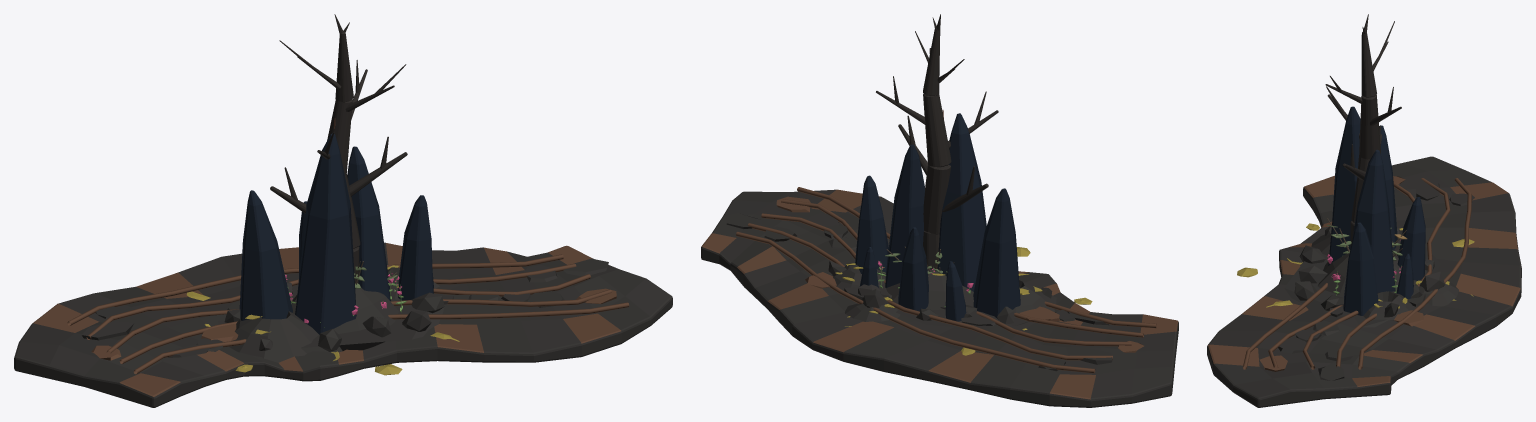
The model's file is volcanic_ecology_kit_v1.glb.
3 renders of one model, left to right at view 1: azimuth 30°, elevation 25°; view 2: azimuth 150°, elevation 25°; view 3: azimuth 270°, elevation 25°, orthographic. The views are drawn at different scales.
Visible parts, largest first — view 1: RopeyLavaShelf, ObsidianShardCluster, FumaroleVentCluster, CharredVolcanicSnag, Lava flow rope 04, Lava flow rope 00, Lava flow rope 03, Lava flow rope 01, Lava flow rope 02; view 2: RopeyLavaShelf, ObsidianShardCluster, CharredVolcanicSnag, FumaroleVentCluster, Lava flow rope 04, Lava flow rope 03, Lava flow rope 02, Lava flow rope 01, Lava flow rope 00; view 3: RopeyLavaShelf, ObsidianShardCluster, CharredVolcanicSnag, FumaroleVentCluster, Lava flow rope 04, Lava flow rope 03, Lava flow rope 00, Lava flow rope 02, Lava flow rope 01, AshScrubCluster.
Part boxes in pixels (box(x1,y1,x2,y2)): RopeyLavaShelf: box(14, 242, 672, 407); ObsidianShardCluster: box(218, 133, 459, 353); FumaroleVentCluster: box(186, 265, 459, 375); CharredVolcanicSnag: box(270, 14, 407, 283); Lava flow rope 04: box(67, 254, 563, 325); Lava flow rope 00: box(133, 302, 629, 374); Lava flow rope 03: box(86, 263, 576, 339); Lava flow rope 01: box(119, 289, 611, 364); Lava flow rope 02: box(106, 274, 590, 352); RopeyLavaShelf: box(701, 189, 1178, 407); ObsidianShardCluster: box(828, 113, 1052, 327); CharredVolcanicSnag: box(876, 14, 998, 269); FumaroleVentCluster: box(832, 247, 1092, 355); Lava flow rope 04: box(736, 231, 1095, 373); Lava flow rope 03: box(747, 223, 1112, 360); Lava flow rope 02: box(761, 213, 1131, 346); Lava flow rope 01: box(781, 199, 1143, 337); Lava flow rope 00: box(797, 187, 1156, 328); RopeyLavaShelf: box(1207, 156, 1521, 407); ObsidianShardCluster: box(1284, 106, 1444, 327); CharredVolcanicSnag: box(1325, 14, 1401, 247); FumaroleVentCluster: box(1237, 223, 1474, 320); Lava flow rope 04: box(1358, 178, 1471, 369); Lava flow rope 03: box(1336, 178, 1450, 367); Lava flow rope 00: box(1242, 283, 1327, 369); Lava flow rope 02: box(1302, 182, 1423, 369); Lava flow rope 01: box(1268, 305, 1343, 367); AshScrubCluster: box(1327, 218, 1407, 260).
Bounding box in the file's own units: 21.86 × 11.75 × 12.12.
